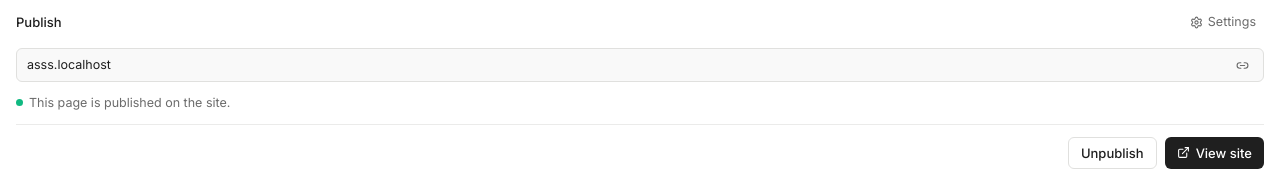
Test: PagePublishTab › unpublishes a published Child via Unpublish button without confirmation dialog
This screenshot has width=1280, height=189.
Expected: the text "This page is published on the site." is shown, [16,95,230,110]
Click the button "Unpublish".
click(1112, 153)  # box [1068,137,1157,169]
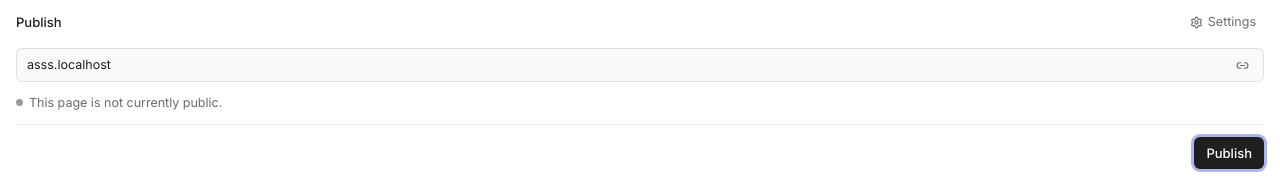
Expected: the button "Publish" is shown, [1194,137,1264,169]
Now the text "This page is not currently public." is shown, box [16,95,222,110]
Now the button "View site" is gone
